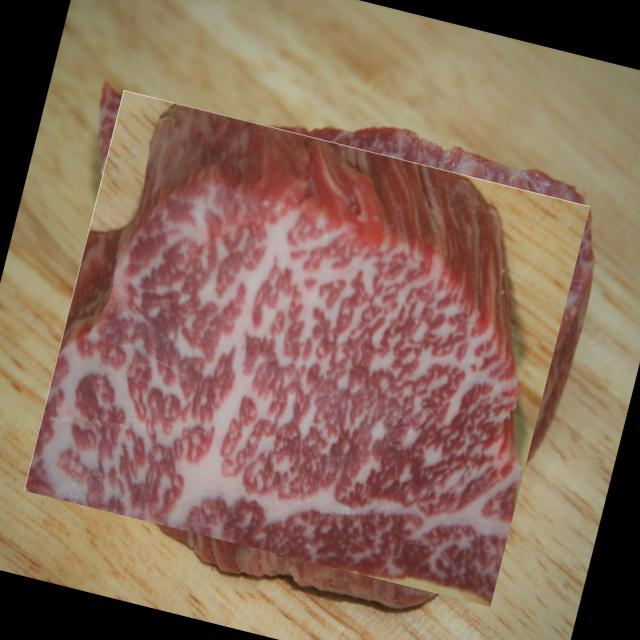beef: (23, 89, 590, 606)
